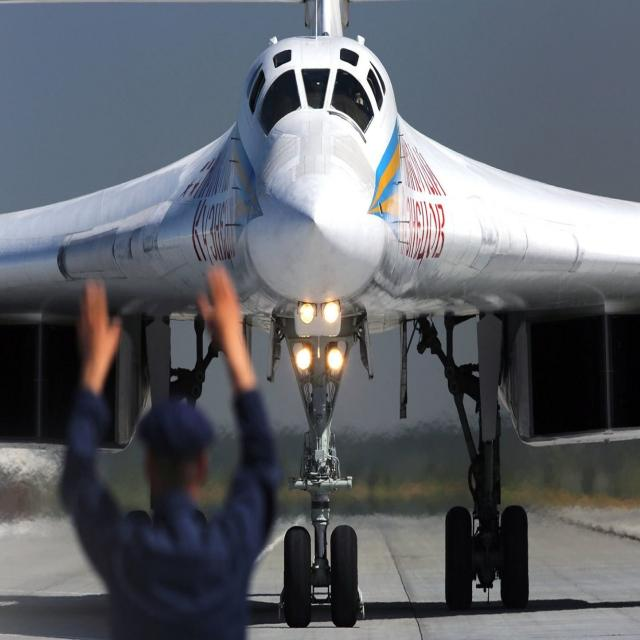Tu160: (2, 2, 640, 638)
